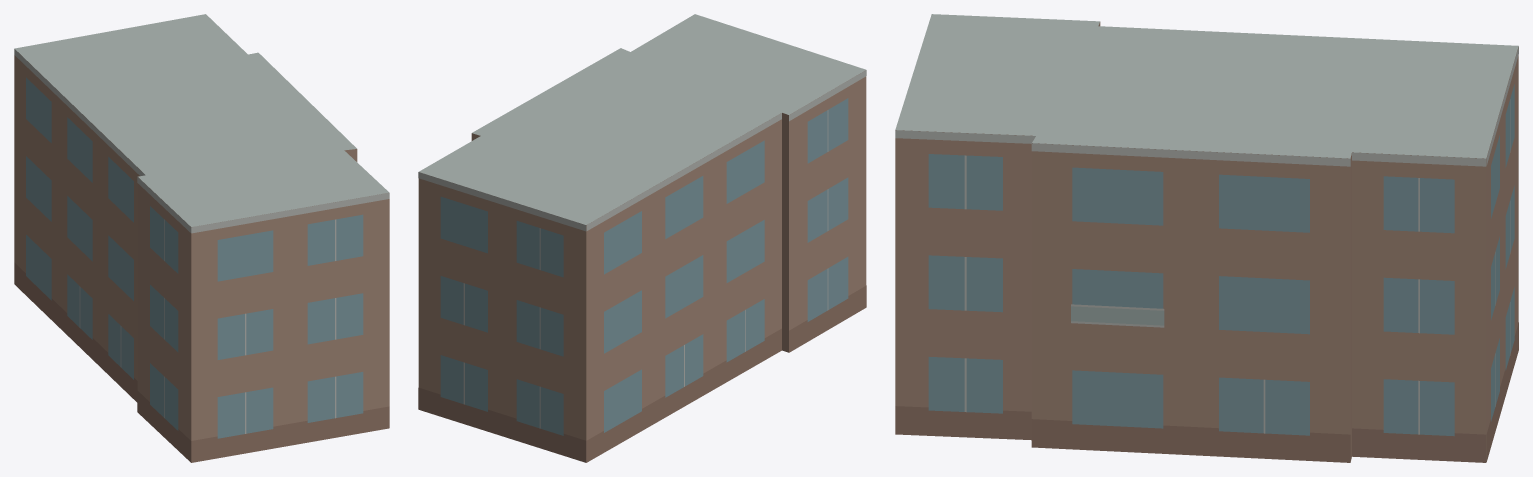
File: survey-upis-32581191.glb
3 renders of one model, left to right at view 1: azimuth 30°, elevation 25°; view 2: azimuth 150°, elevation 25°; view 3: azimuth 270°, elevation 25°, orthographic. The views are drawn at different scales.
Visible parts, largest first — view 1: survey-upis-32581191.tmp; view 2: survey-upis-32581191.tmp; view 3: survey-upis-32581191.tmp.
Boxes of the visible parts, left/top/right/bottom form: survey-upis-32581191.tmp: left=14, top=14, right=389, bottom=462; survey-upis-32581191.tmp: left=418, top=14, right=866, bottom=462; survey-upis-32581191.tmp: left=895, top=14, right=1518, bottom=462.
Bounding box in the file's own units: 9.33 × 9.15 × 17.
